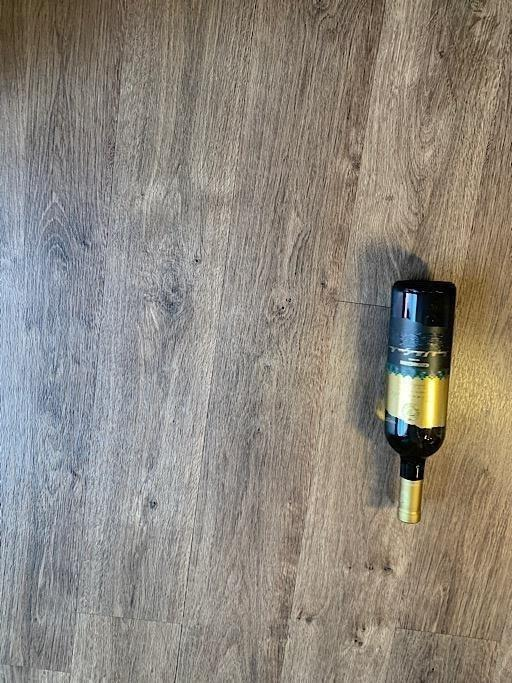bottle-glass: (379, 276, 457, 525)
